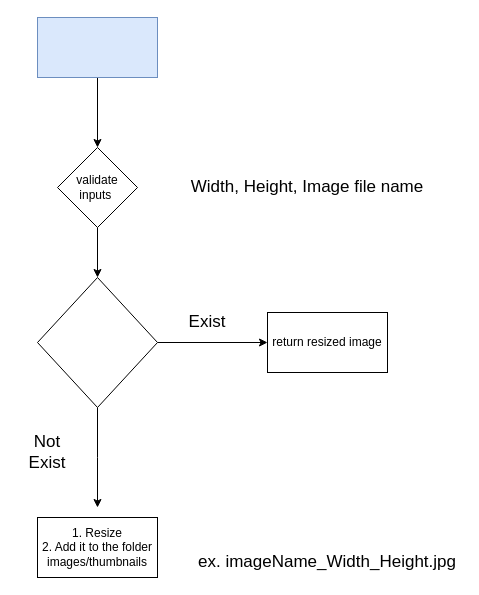
This 479x595 diagram has some shape labels left out. The centre of each missing label's shape, as x and y in pixels:
"/t3del-7gm-image" belongs at point (97, 47).
"check if the image exists or not" belongs at point (97, 342).
